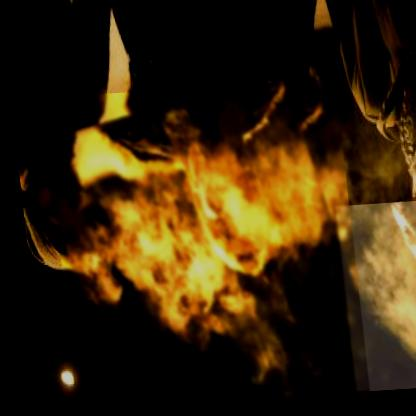smoke: (41, 83, 360, 414), (330, 205, 416, 397)
